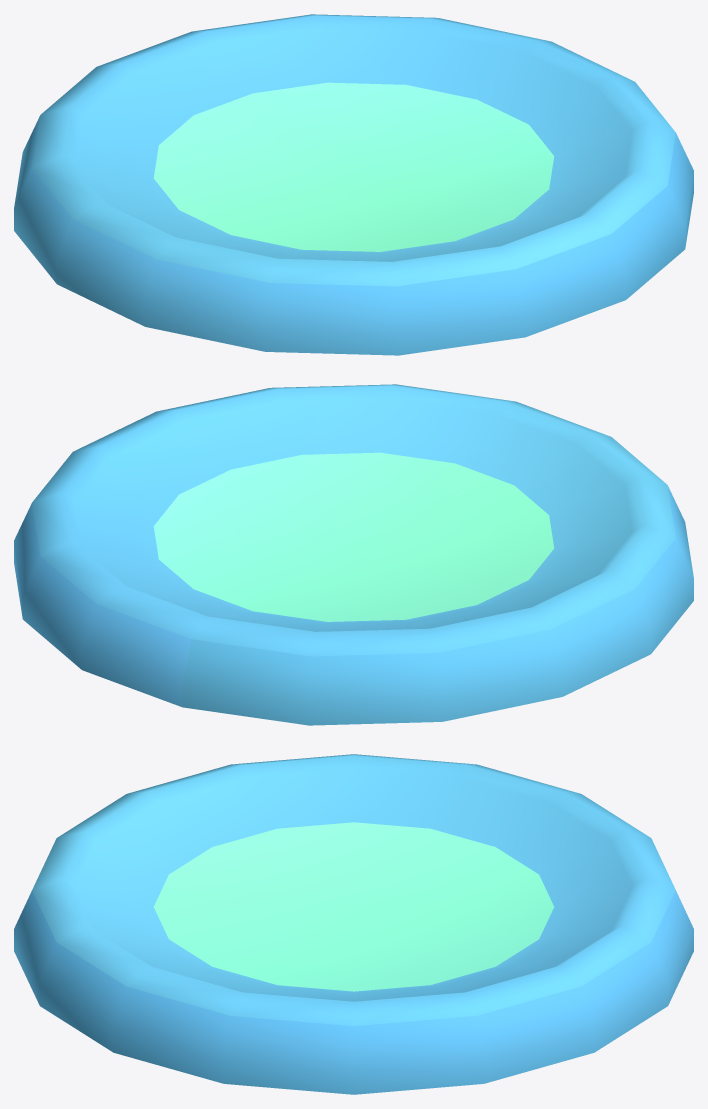
Rendered from DogBedBlue.glb.
The picture shows the model from 3 angles, top to bottom: view 1: azimuth 30°, elevation 25°; view 2: azimuth 150°, elevation 25°; view 3: azimuth 270°, elevation 25°; orthographic projection.
Visible parts, largest first — view 1: DogBedBlue; view 2: DogBedBlue; view 3: DogBedBlue.
Boxes of the visible parts, x1,y1,x2,y2 form: DogBedBlue: (14,14,693,355); DogBedBlue: (14,384,693,725); DogBedBlue: (14,754,693,1094).
Size of the model in its own units: 2 by 0.2348 by 2.
1 material, 1 textured.
